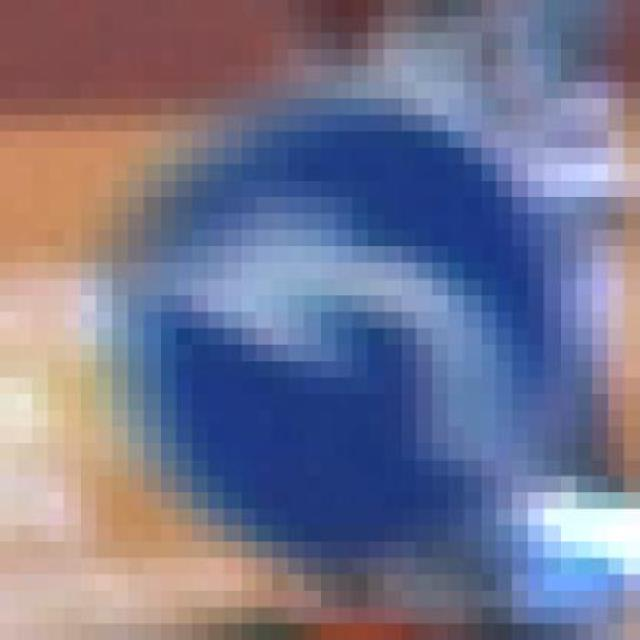Turn left ahead: (80, 82, 592, 575)
